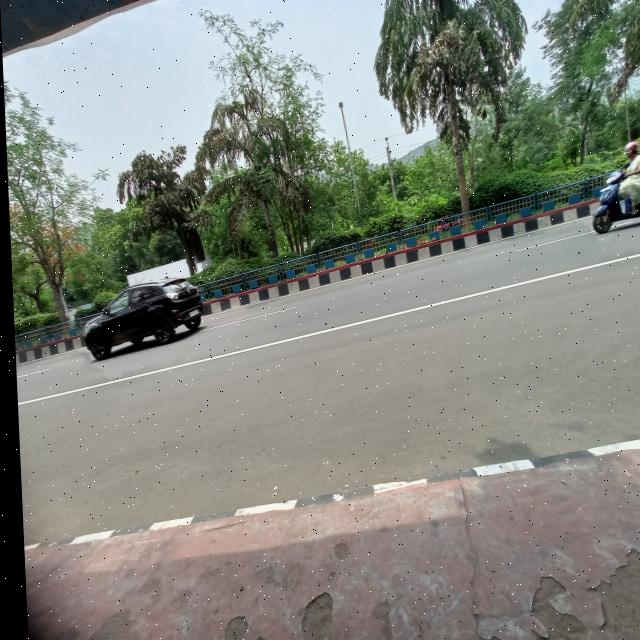bike: (587, 168, 640, 255)
car: (71, 278, 203, 357)
